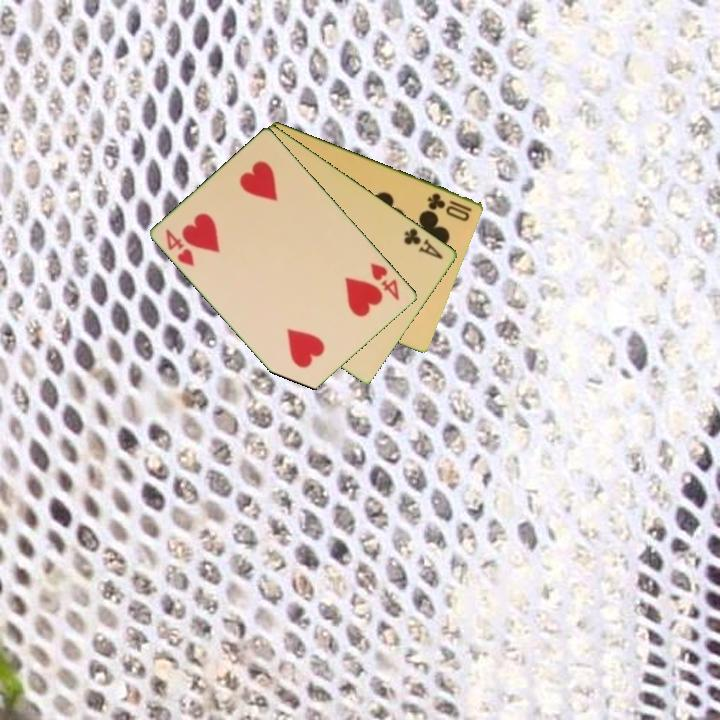10c: (424, 189, 475, 224)
4h: (367, 259, 403, 304), (162, 225, 198, 269)
Ac: (400, 224, 446, 262)
